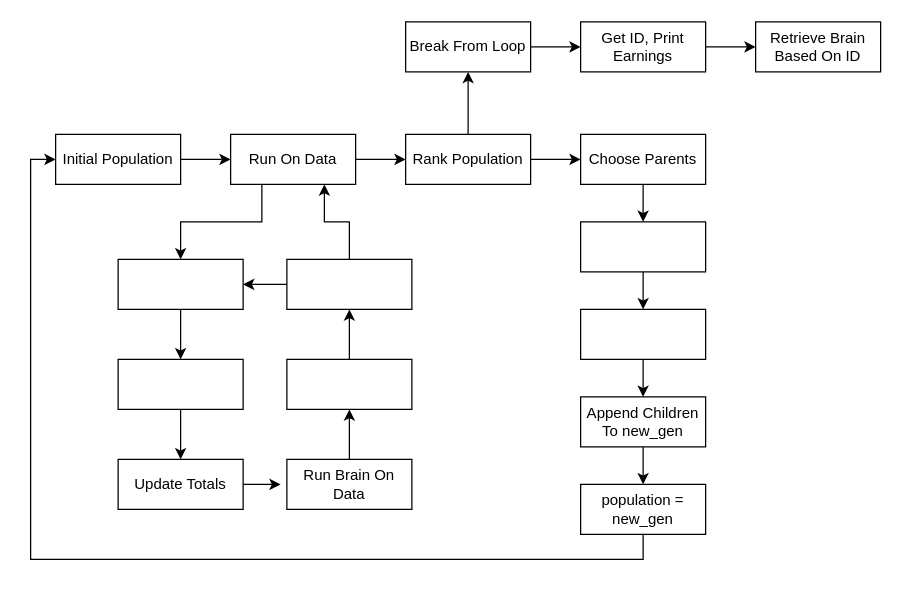
This 903x591 diagram has some shape labels left out. Each missing label, with the box of its shape:
Check Data: (117, 258, 243, 309)
Create Children: (579, 308, 706, 359)
Increment Data: (286, 258, 412, 309)
Randomly Pair Parents: (579, 221, 706, 272)
Resolve Open Trades: (117, 358, 243, 409)
Update Open Trades: (286, 358, 412, 409)
